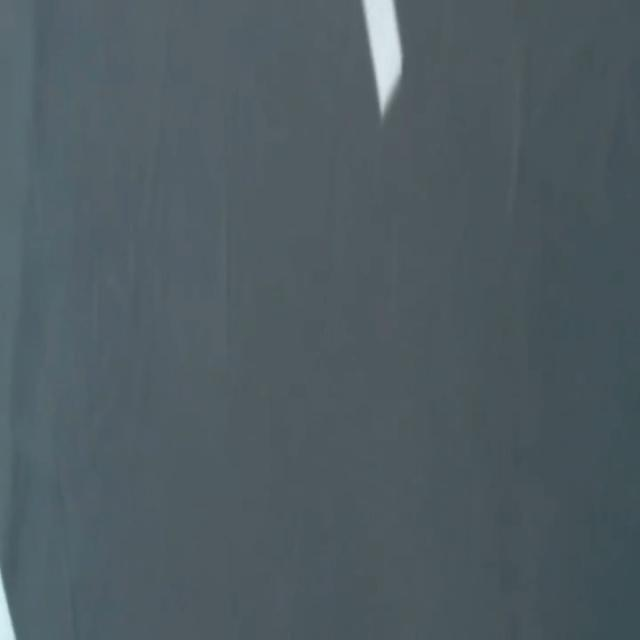center: (362, 0, 402, 121)
left: (0, 572, 16, 639)
